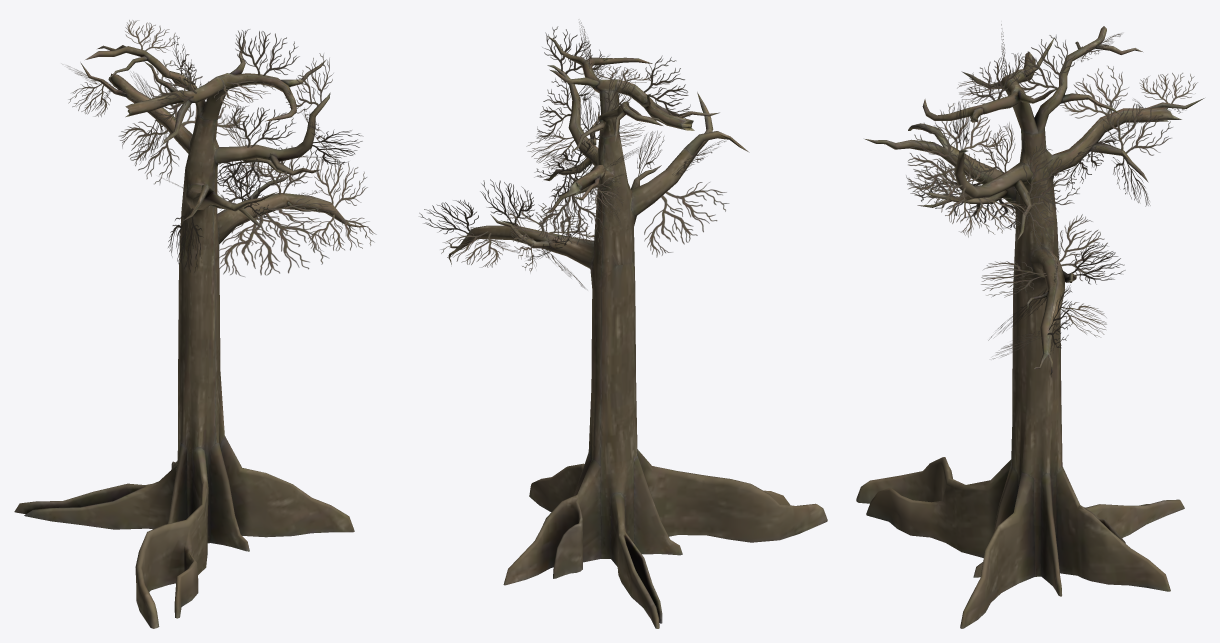
3 renders of one model, left to right at view 1: azimuth 30°, elevation 25°; view 2: azimuth 150°, elevation 25°; view 3: azimuth 270°, elevation 25°, orthographic. The views are drawn at different scales.
Parts seen in each view (by area): view 1: body0_model0_lod0_mesh0, body0_model0_lod0_mesh1; view 2: body0_model0_lod0_mesh0, body0_model0_lod0_mesh1; view 3: body0_model0_lod0_mesh0, body0_model0_lod0_mesh1.
Boxes of the visible parts, x1,y1,x2,y2 form: body0_model0_lod0_mesh0: [14, 35, 368, 628]; body0_model0_lod0_mesh1: [67, 20, 376, 276]; body0_model0_lod0_mesh0: [448, 35, 827, 628]; body0_model0_lod0_mesh1: [419, 21, 728, 288]; body0_model0_lod0_mesh0: [856, 26, 1204, 628]; body0_model0_lod0_mesh1: [906, 24, 1197, 359].
Bounding box in the file's own units: 726 × 1108 × 647.
2 materials, 2 textured.
